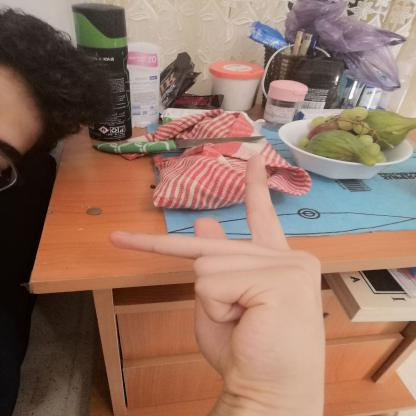DHAA: (96, 143, 338, 410)
